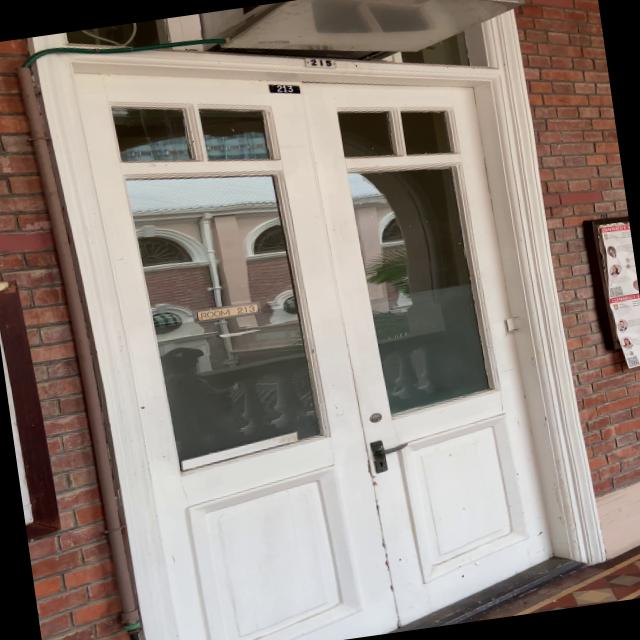room213: (266, 76, 304, 98)
room213Window: (189, 296, 270, 324)
